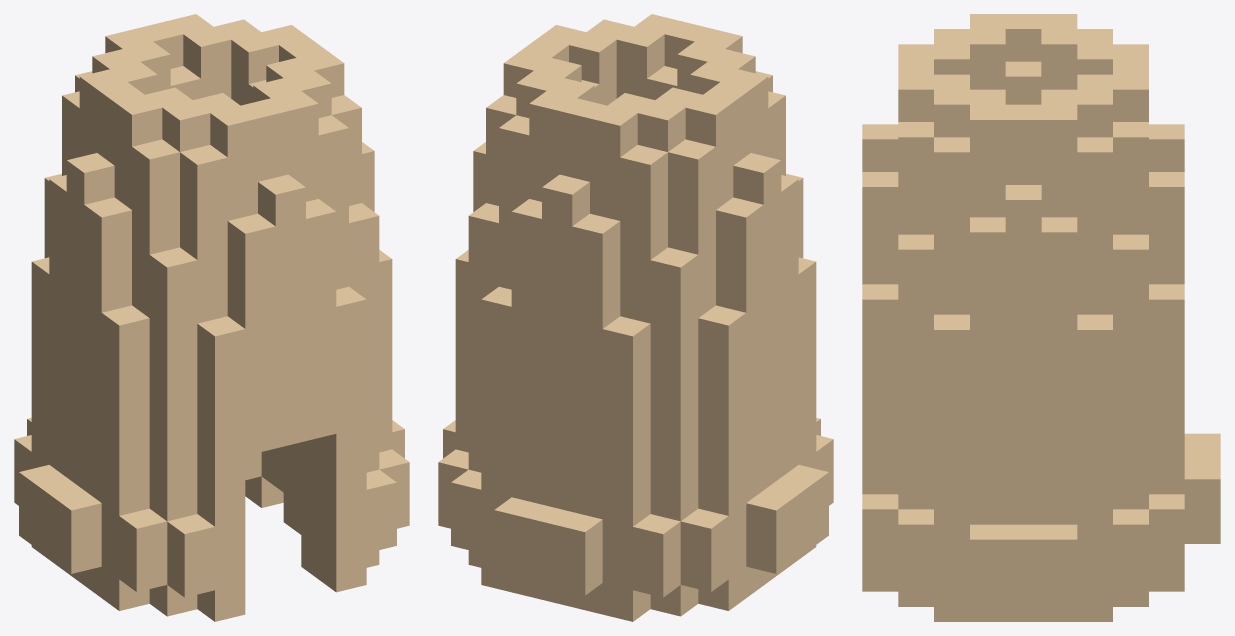
The model's file is alien-biosphere-chimney-nest-548d724d__22780.glb.
3 views of the same model, side by side, from view 1: azimuth 30°, elevation 25°; view 2: azimuth 150°, elevation 25°; view 3: azimuth 270°, elevation 25° (orthographic). The views are drawn at different scales.
Visible parts, largest first — view 1: chimney-nest; view 2: chimney-nest; view 3: chimney-nest.
Part boxes in pixels (x1,y1,x2,y2): chimney-nest: (14, 14, 409, 621); chimney-nest: (438, 14, 833, 621); chimney-nest: (862, 14, 1220, 621).
Size of the model in its own units: 2.2 by 3 by 2.
